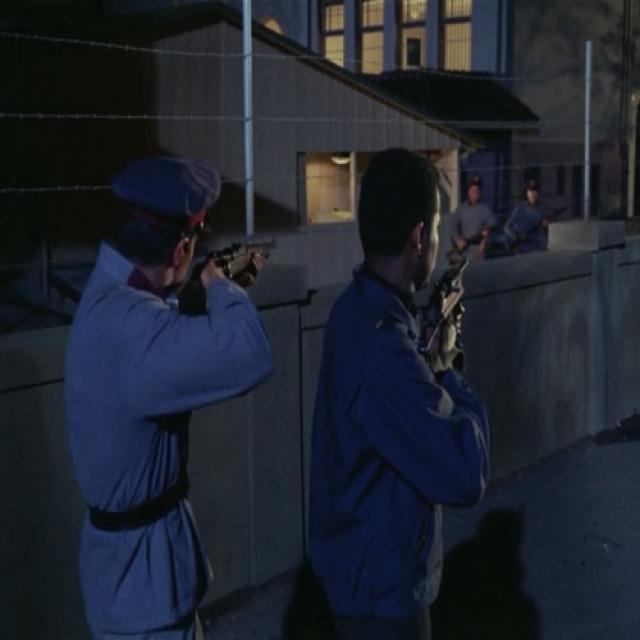rifle: (161, 227, 283, 326), (417, 241, 477, 371)
